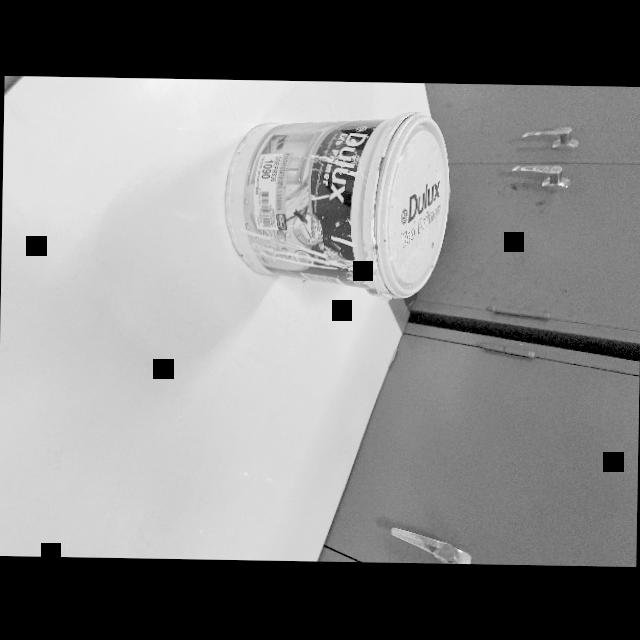paint_bucket: (216, 110, 454, 298)
